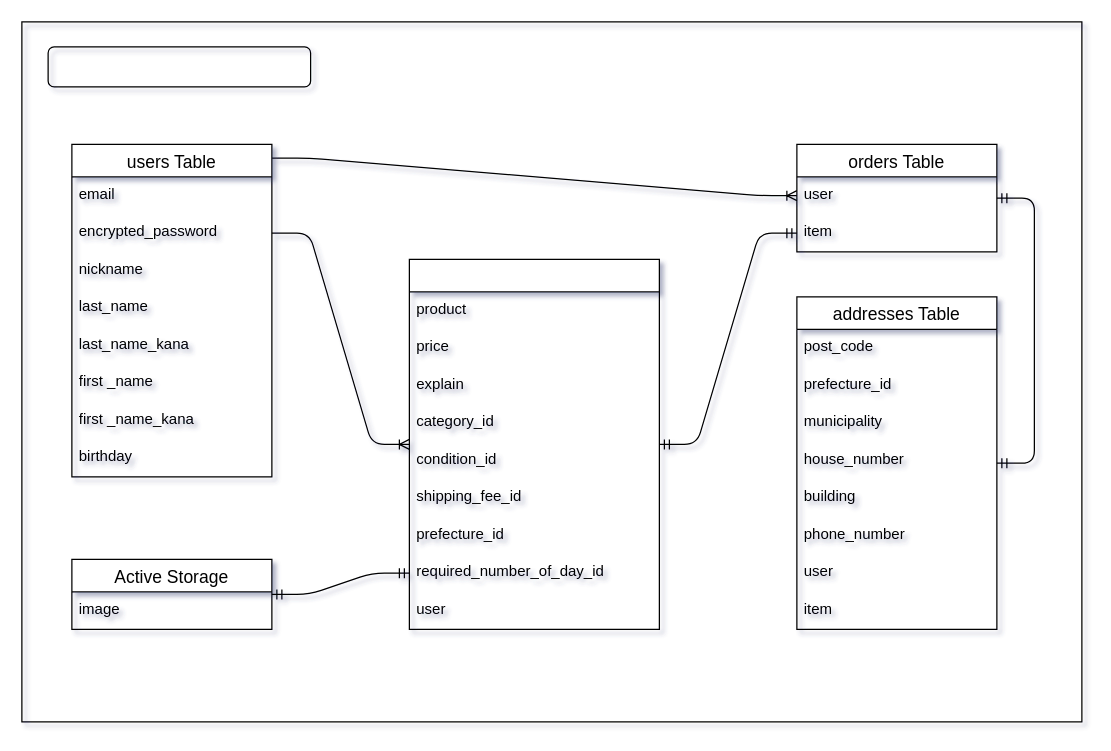
Some shapes in this 1111 by 751 pixel diagram are drawn without their labels. The shapes that lost their labels are listed below. From the top down, each one's box as (x1, y1, x2, y2) in pixels, then its label:
(47, 46, 311, 87): furima-app データベース設計図
(408, 258, 659, 629): items Table
